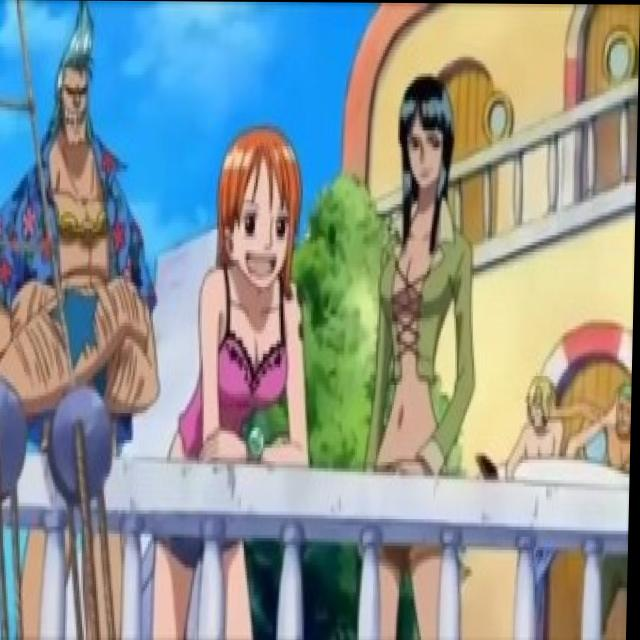Franky: (51, 2, 110, 171)
Nami: (205, 111, 312, 311)
NicoRobin: (395, 76, 453, 249)
Sangdi: (522, 367, 568, 443)
Zoro: (612, 374, 634, 440)
